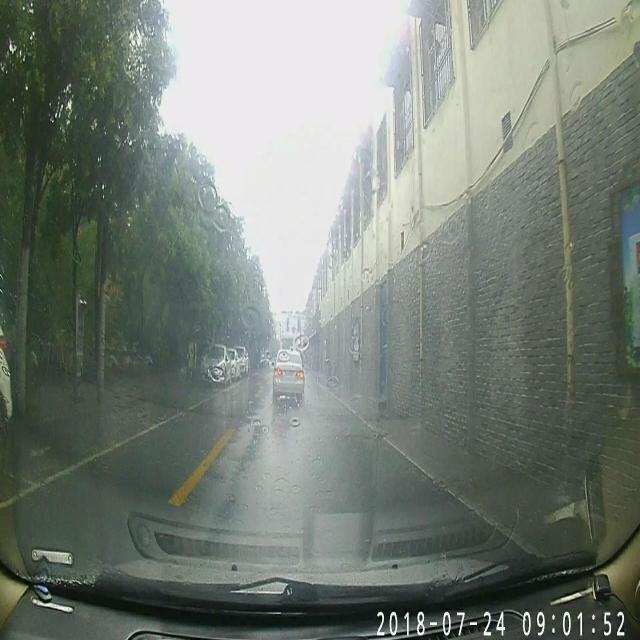car: (273, 346, 304, 404), (203, 342, 228, 382)
